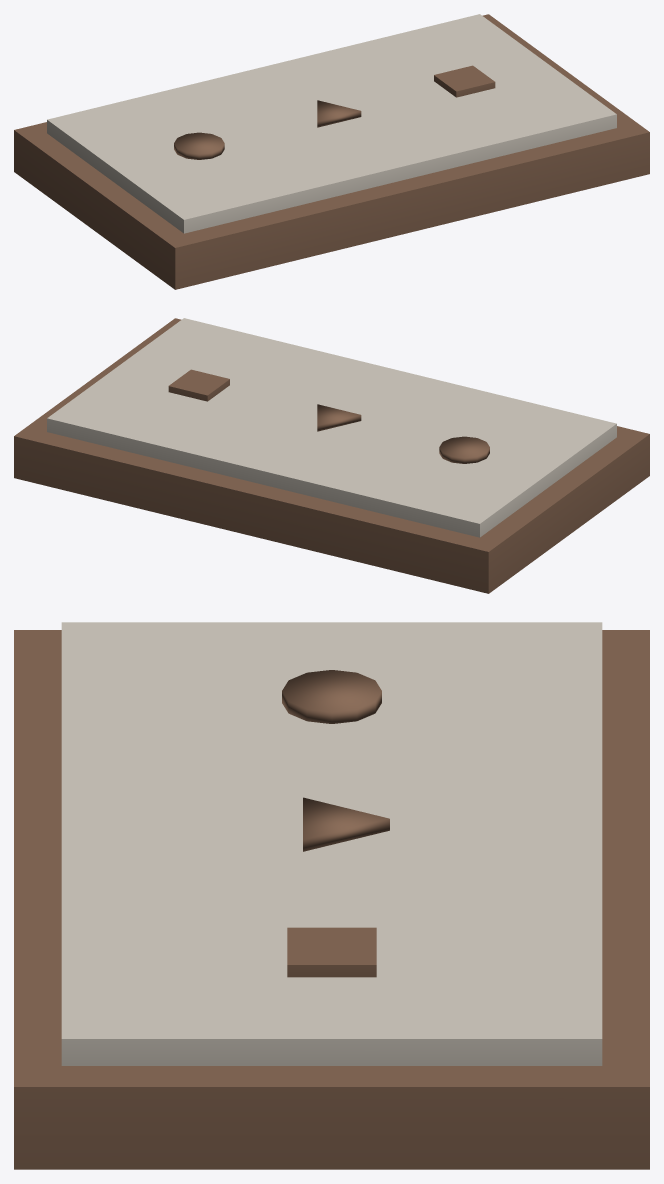
File: prop-or-gear-board.glb
3 renders of one model, top to bottom at view 1: azimuth 30°, elevation 25°; view 2: azimuth 150°, elevation 25°; view 3: azimuth 270°, elevation 25°, orthographic. The views are drawn at different scales.
Visible parts, largest first — view 1: prop-or-gear-board; view 2: prop-or-gear-board; view 3: prop-or-gear-board.
Part boxes in pixels (x1=…): prop-or-gear-board: x1=14, y1=14, x2=649, y2=289; prop-or-gear-board: x1=14, y1=318, x2=649, y2=593; prop-or-gear-board: x1=14, y1=622, x2=649, y2=1169.
Bounding box in the file's own units: 0.68 × 0.085 × 0.4.
